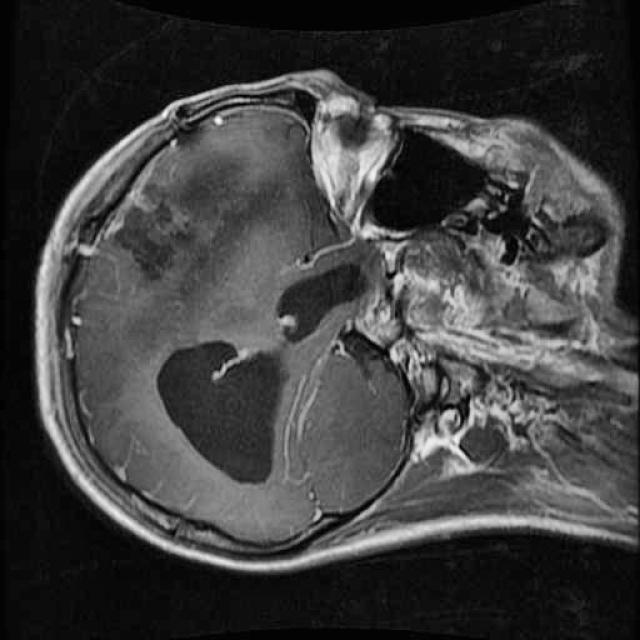Tumor: (145, 245, 377, 494)
